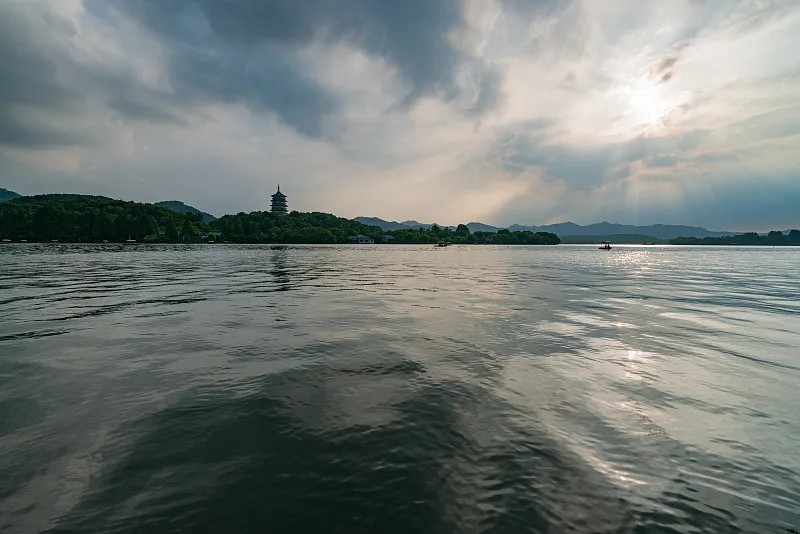Leifeng: (267, 181, 290, 213)
